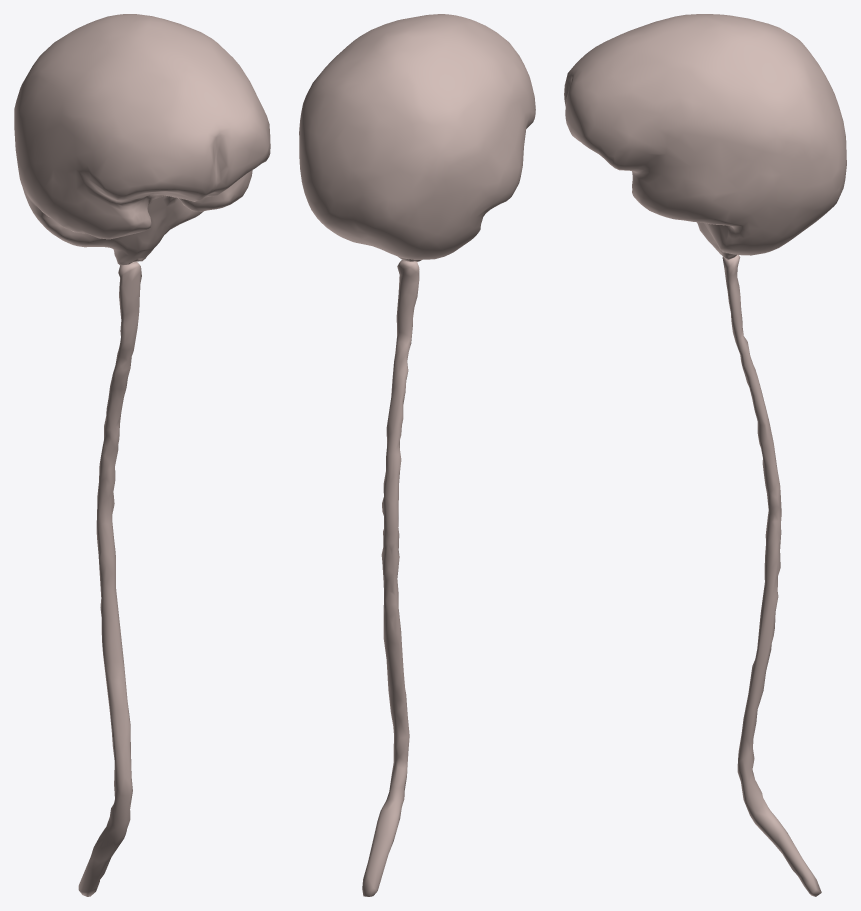
File: pediatric_child_5y_female.nervous.LOD0.glb
3 views of the same model, side by side, from view 1: azimuth 30°, elevation 25°; view 2: azimuth 150°, elevation 25°; view 3: azimuth 270°, elevation 25° (orthographic). The views are drawn at different scales.
Visible parts, largest first — view 1: PEDIATRIC.CHILD_5Y.FEMALE.NERVOUS.BRAIN, PEDIATRIC.CHILD_5Y.FEMALE.NERVOUS.SPINAL_CORD; view 2: PEDIATRIC.CHILD_5Y.FEMALE.NERVOUS.BRAIN, PEDIATRIC.CHILD_5Y.FEMALE.NERVOUS.SPINAL_CORD; view 3: PEDIATRIC.CHILD_5Y.FEMALE.NERVOUS.BRAIN, PEDIATRIC.CHILD_5Y.FEMALE.NERVOUS.SPINAL_CORD.
Boxes of the visible parts, x1,y1,x2,y2 form: PEDIATRIC.CHILD_5Y.FEMALE.NERVOUS.BRAIN: [14, 14, 270, 265]; PEDIATRIC.CHILD_5Y.FEMALE.NERVOUS.SPINAL_CORD: [78, 261, 141, 896]; PEDIATRIC.CHILD_5Y.FEMALE.NERVOUS.BRAIN: [299, 14, 535, 261]; PEDIATRIC.CHILD_5Y.FEMALE.NERVOUS.SPINAL_CORD: [362, 260, 419, 896]; PEDIATRIC.CHILD_5Y.FEMALE.NERVOUS.BRAIN: [564, 14, 846, 259]; PEDIATRIC.CHILD_5Y.FEMALE.NERVOUS.SPINAL_CORD: [722, 255, 821, 896].
Bounding box in the file's own units: 0.1259 × 0.5255 × 0.1543.
